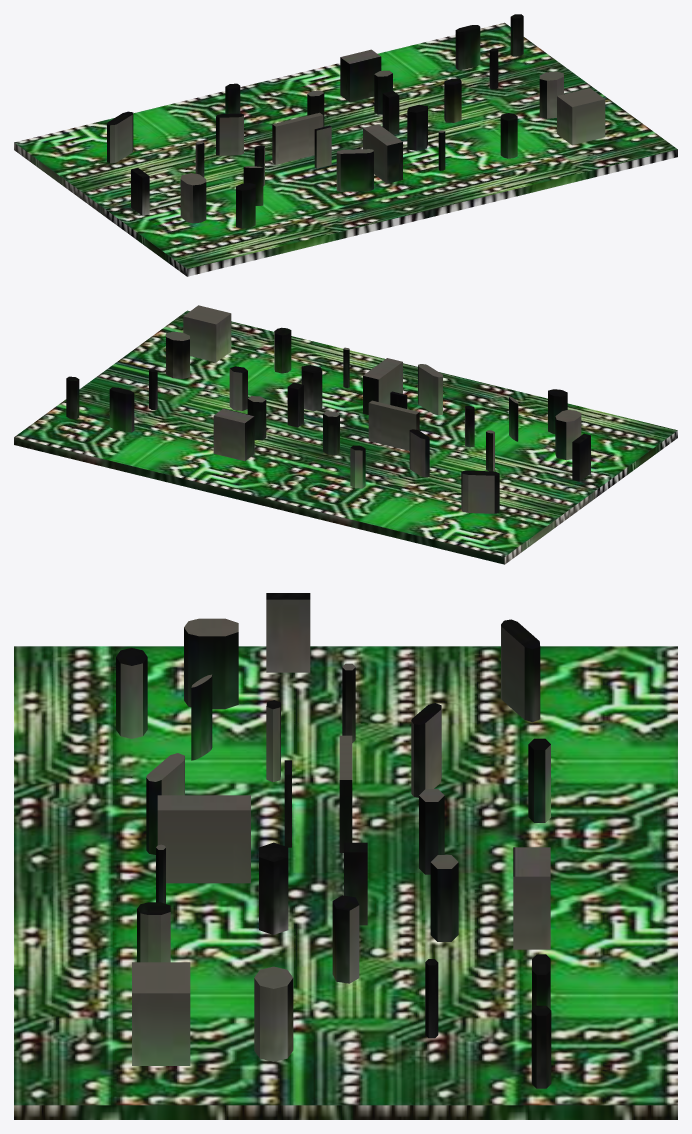
Rendered from pcbBoardC.glb.
3 views of the same model, one above another, from view 1: azimuth 30°, elevation 25°; view 2: azimuth 150°, elevation 25°; view 3: azimuth 270°, elevation 25° (orthographic). The views are drawn at different scales.
Parts seen in each view (by area): view 1: Asset3DLoader.sceneRoot; view 2: Asset3DLoader.sceneRoot; view 3: Asset3DLoader.sceneRoot.
Boxes of the visible parts, box(x1,y1,x2,y2) form: Asset3DLoader.sceneRoot: box(14, 14, 677, 276); Asset3DLoader.sceneRoot: box(14, 305, 677, 564); Asset3DLoader.sceneRoot: box(14, 593, 677, 1119).
Bounding box in the file's own units: 135 × 12 × 82.5.
1 material, 1 textured.
